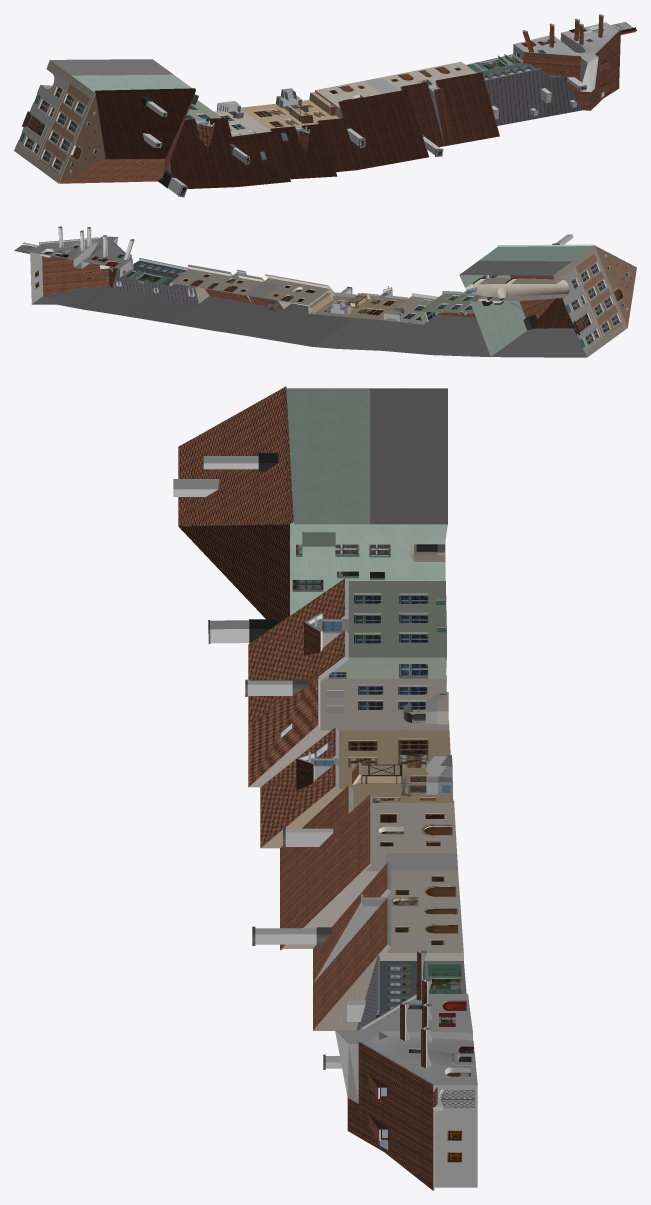
The model's file is Vene_12.obj.
3 views of the same model, one above another, from view 1: azimuth 30°, elevation 25°; view 2: azimuth 150°, elevation 25°; view 3: azimuth 270°, elevation 25° (orthographic). The views are drawn at different scales.
Parts seen in each view (by area): view 1: Vene_12; view 2: Vene_12; view 3: Vene_12.
Part boxes in pixels (<box>): Vene_12: <box>14,14,636,197</box>; Vene_12: <box>14,226,636,357</box>; Vene_12: <box>173,386,477,1190</box>.
Size of the model in its own units: 101 by 25.81 by 23.62.
